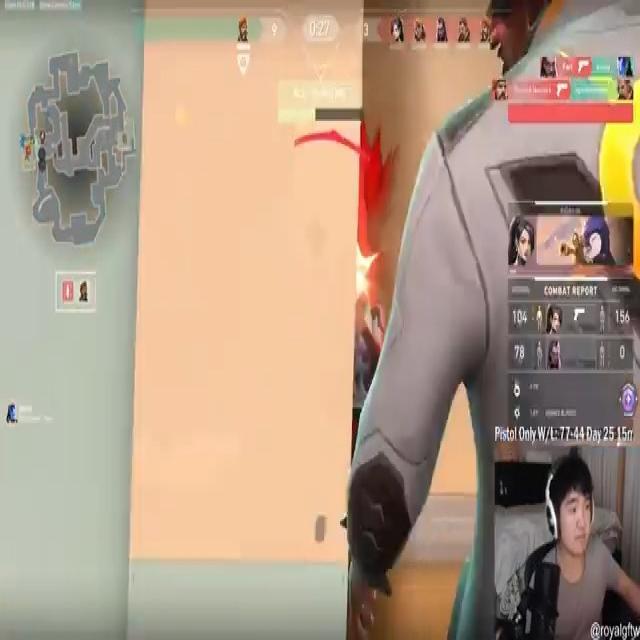enemy: (350, 296, 384, 392)
